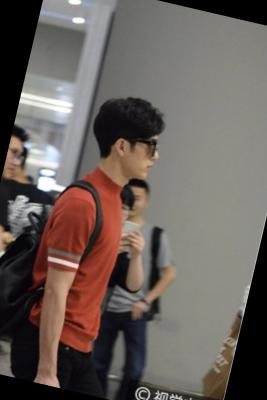without_mask: (117, 131, 165, 186), (2, 145, 26, 184), (120, 191, 149, 221)
